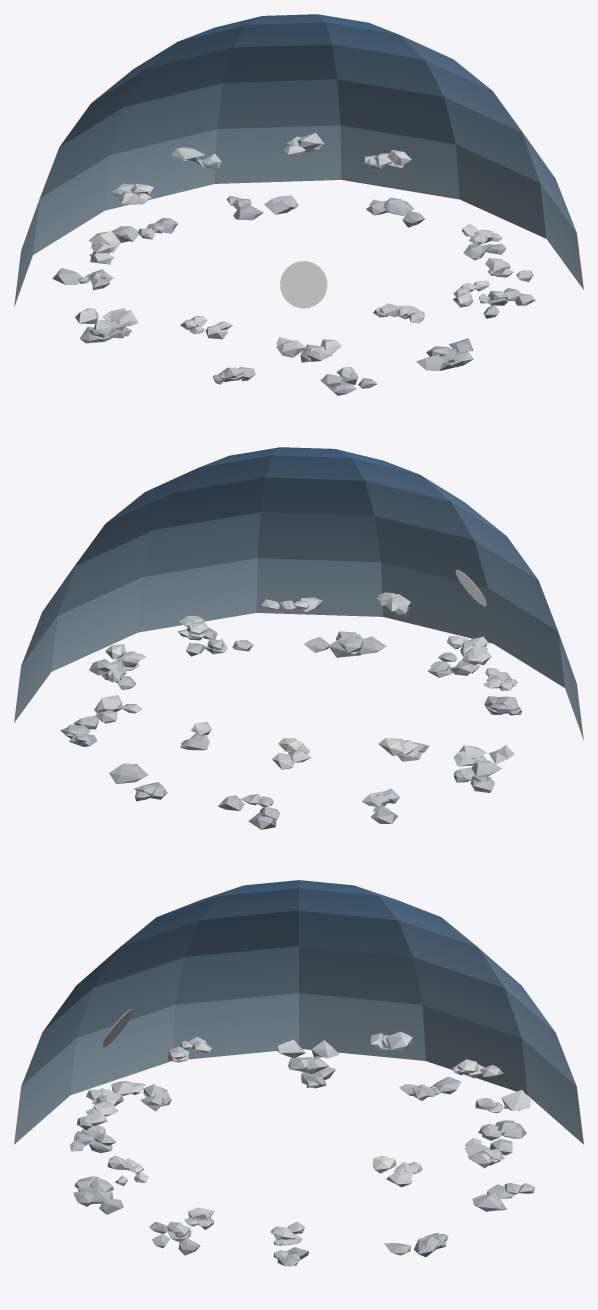
Rendered from sky-misty-morning.glb.
3 renders of one model, top to bottom at view 1: azimuth 30°, elevation 25°; view 2: azimuth 150°, elevation 25°; view 3: azimuth 270°, elevation 25°, orthographic. The views are drawn at different scales.
Visible parts, largest first — view 1: sky_misty_morning; view 2: sky_misty_morning; view 3: sky_misty_morning.
Part boxes in pixels (x1,y1,x2,y2): sky_misty_morning: [14, 14, 583, 395]; sky_misty_morning: [14, 447, 583, 829]; sky_misty_morning: [14, 880, 583, 1266].
Bounding box in the file's own units: 384 × 197 × 374.
